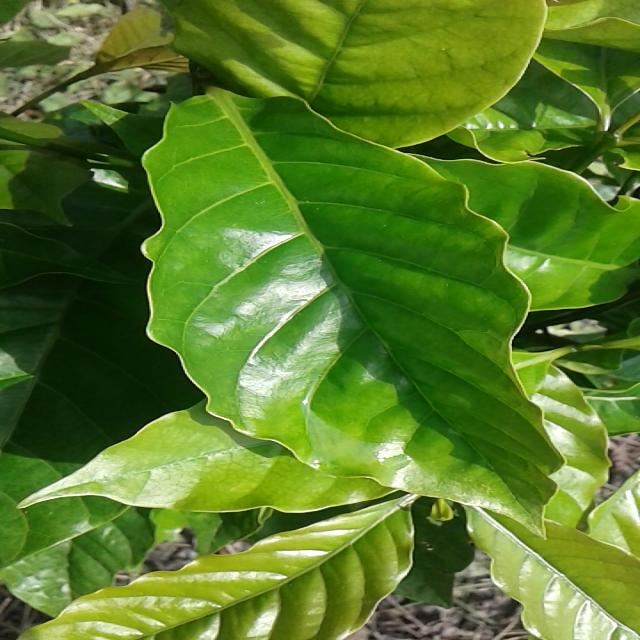Sanas: (141, 88, 564, 536)
